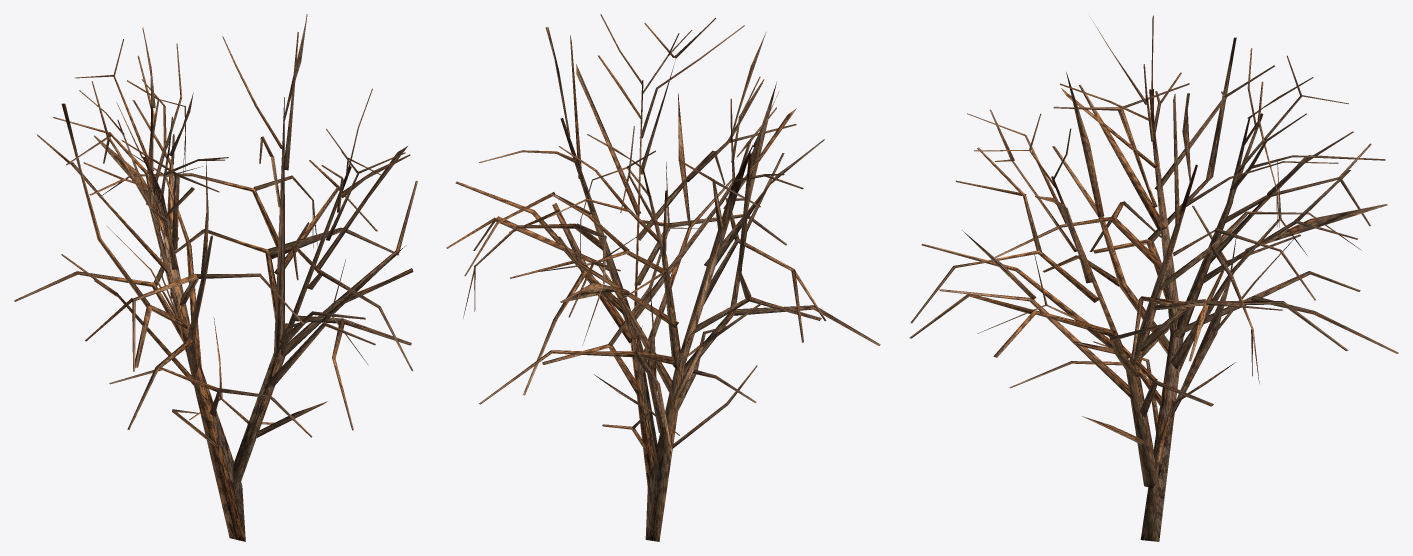
File: Maple Tree.obj
3 views of the same model, side by side, from view 1: azimuth 30°, elevation 25°; view 2: azimuth 150°, elevation 25°; view 3: azimuth 270°, elevation 25° (orthographic). The views are drawn at different scales.
Parts seen in each view (by area): view 1: Maple_Tree_tree.006; view 2: Maple_Tree_tree.006; view 3: Maple_Tree_tree.006.
Part boxes in pixels (left/top/right/bottom): Maple_Tree_tree.006: left=14, top=14, right=417, bottom=541; Maple_Tree_tree.006: left=446, top=14, right=880, bottom=541; Maple_Tree_tree.006: left=909, top=15, right=1398, bottom=541.
Bounding box in the file's own units: 6.45 × 8.59 × 7.81.
Materials: 1 (1 with a texture image).
